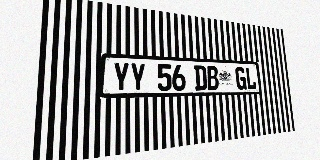5: (157, 64, 172, 91)
6: (172, 64, 186, 91)
B: (206, 66, 219, 90)
D: (194, 65, 207, 90)
G: (235, 67, 247, 90)
L: (245, 67, 257, 90)
Y: (112, 62, 129, 92), (130, 63, 146, 92)
